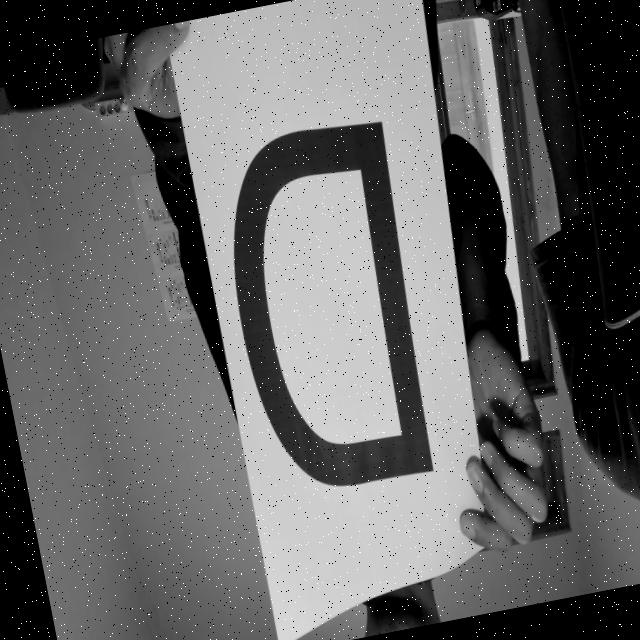d: (190, 85, 460, 522)
